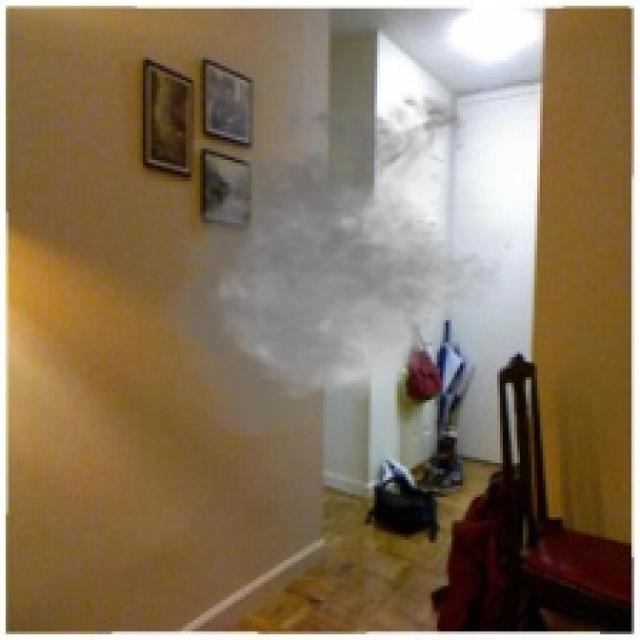smoke: (145, 83, 526, 451)
